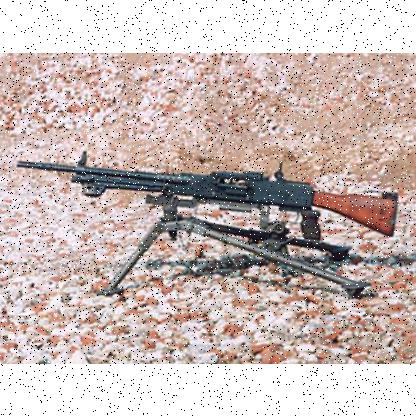gun: (15, 150, 399, 298)
